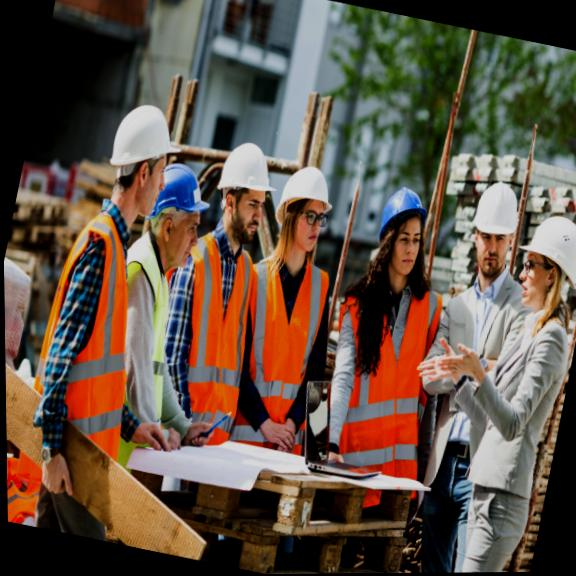no_safety_vest: (403, 263, 525, 492), (464, 305, 576, 529)
safety_vest: (18, 212, 157, 485), (318, 263, 453, 485), (218, 238, 339, 450), (159, 235, 273, 438)
